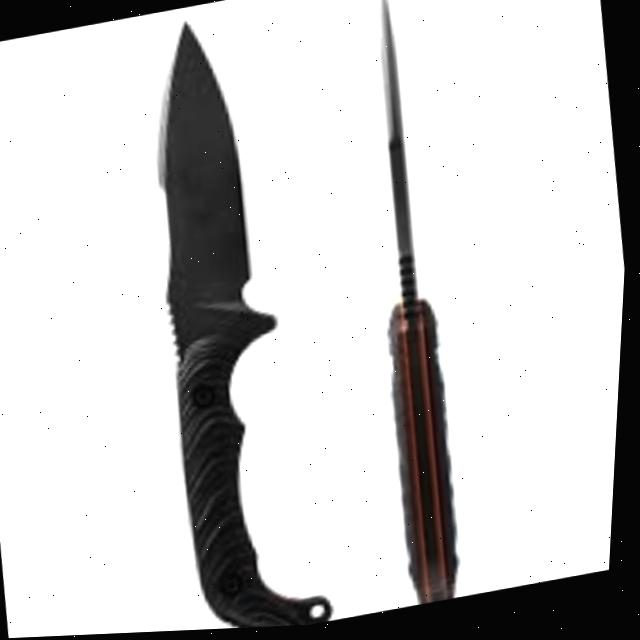knife: (114, 0, 363, 635), (328, 0, 494, 613)
